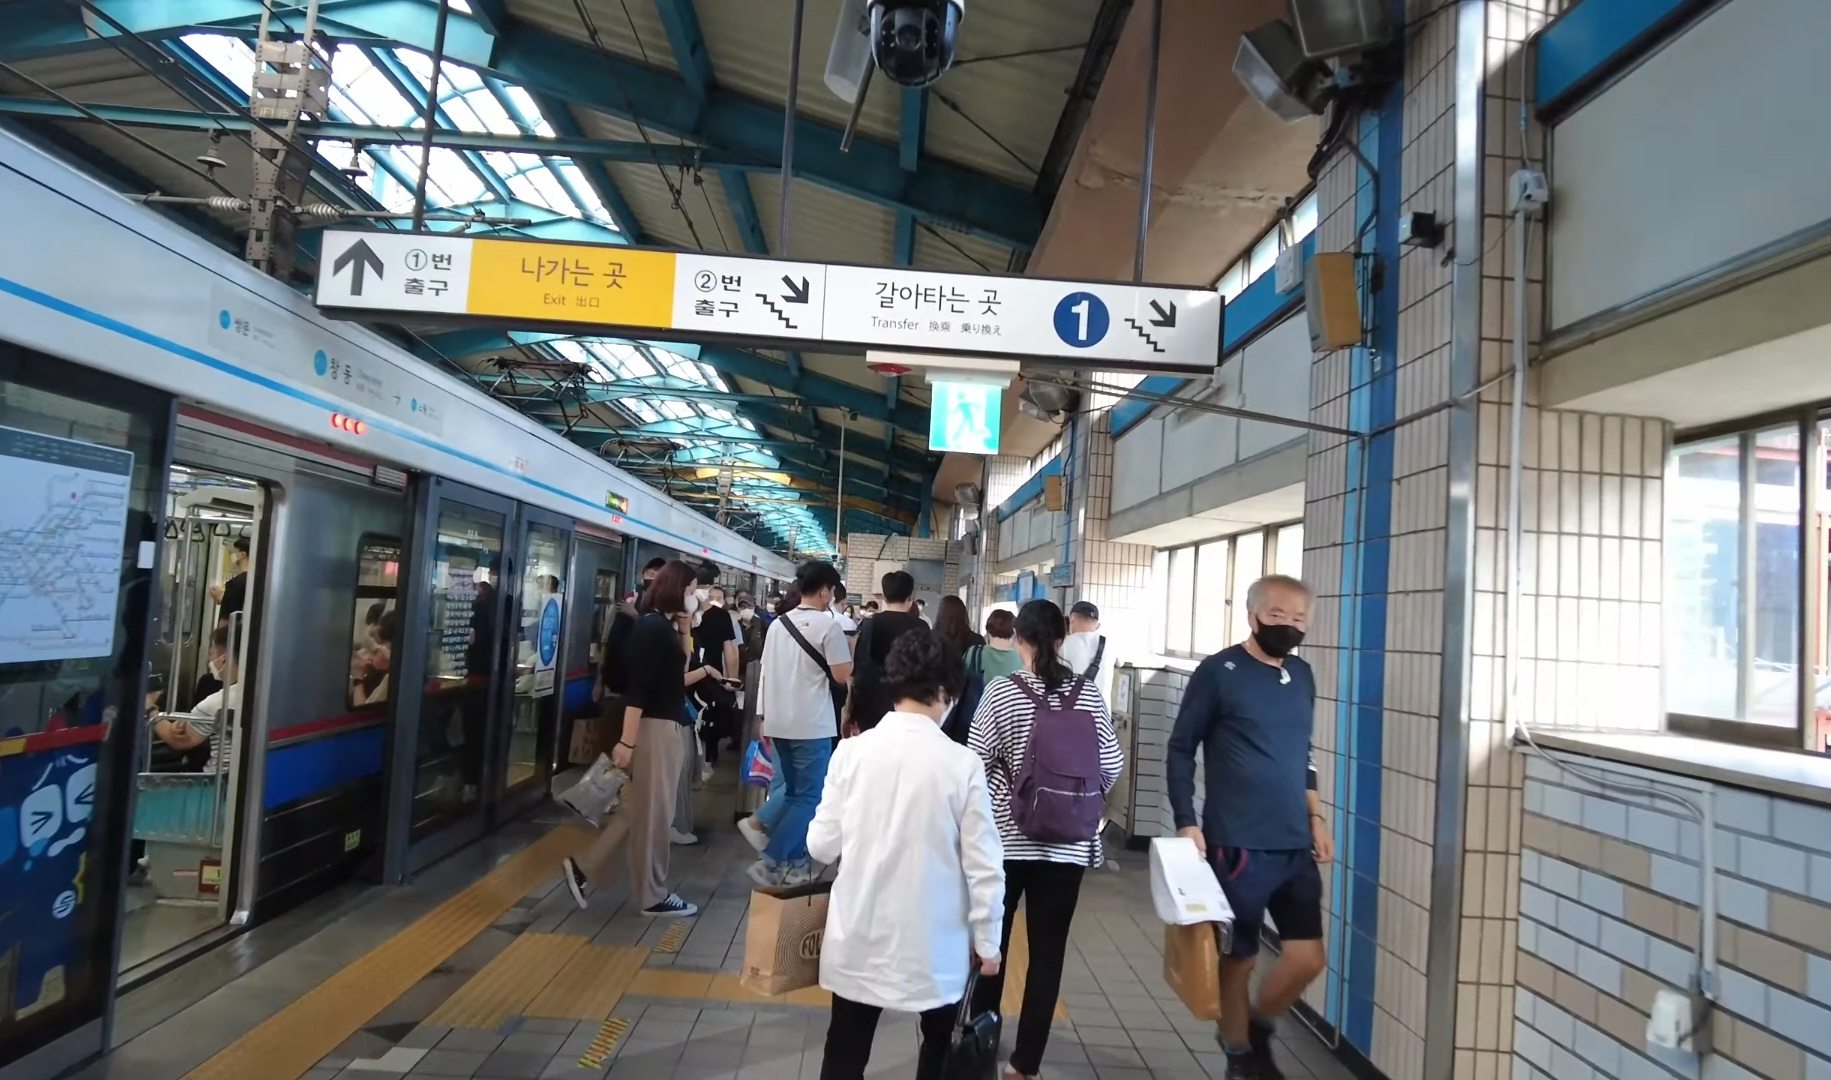signBoard: (288, 210, 1232, 388)
